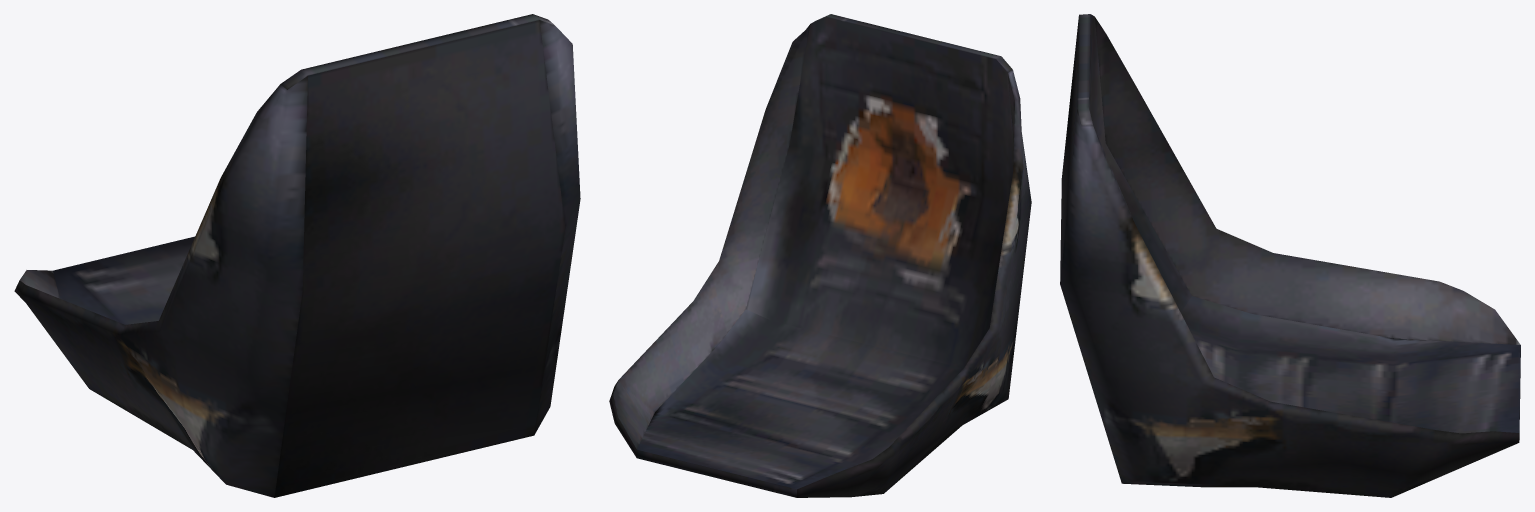
Rendered from mudskipper_chair.glb.
3 views of the same model, side by side, from view 1: azimuth 30°, elevation 25°; view 2: azimuth 150°, elevation 25°; view 3: azimuth 270°, elevation 25° (orthographic). The views are drawn at different scales.
Visible parts, largest first — view 1: Object_2; view 2: Object_2; view 3: Object_2.
Boxes of the visible parts, x1=… form: Object_2: x1=14, y1=14, x2=580, y2=497; Object_2: x1=609, y1=14, x2=1031, y2=497; Object_2: x1=1060, y1=14, x2=1520, y2=497.
Size of the model in its own units: 2.39 by 2.68 by 3.02.
1 material, 1 textured.
